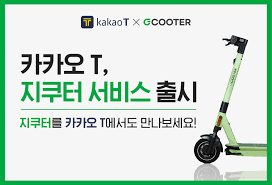kick_body: (242, 144, 266, 156)
kick_handler: (223, 35, 248, 52)
kick_neck: (215, 55, 242, 127)
kick_wheel: (195, 135, 220, 163)
